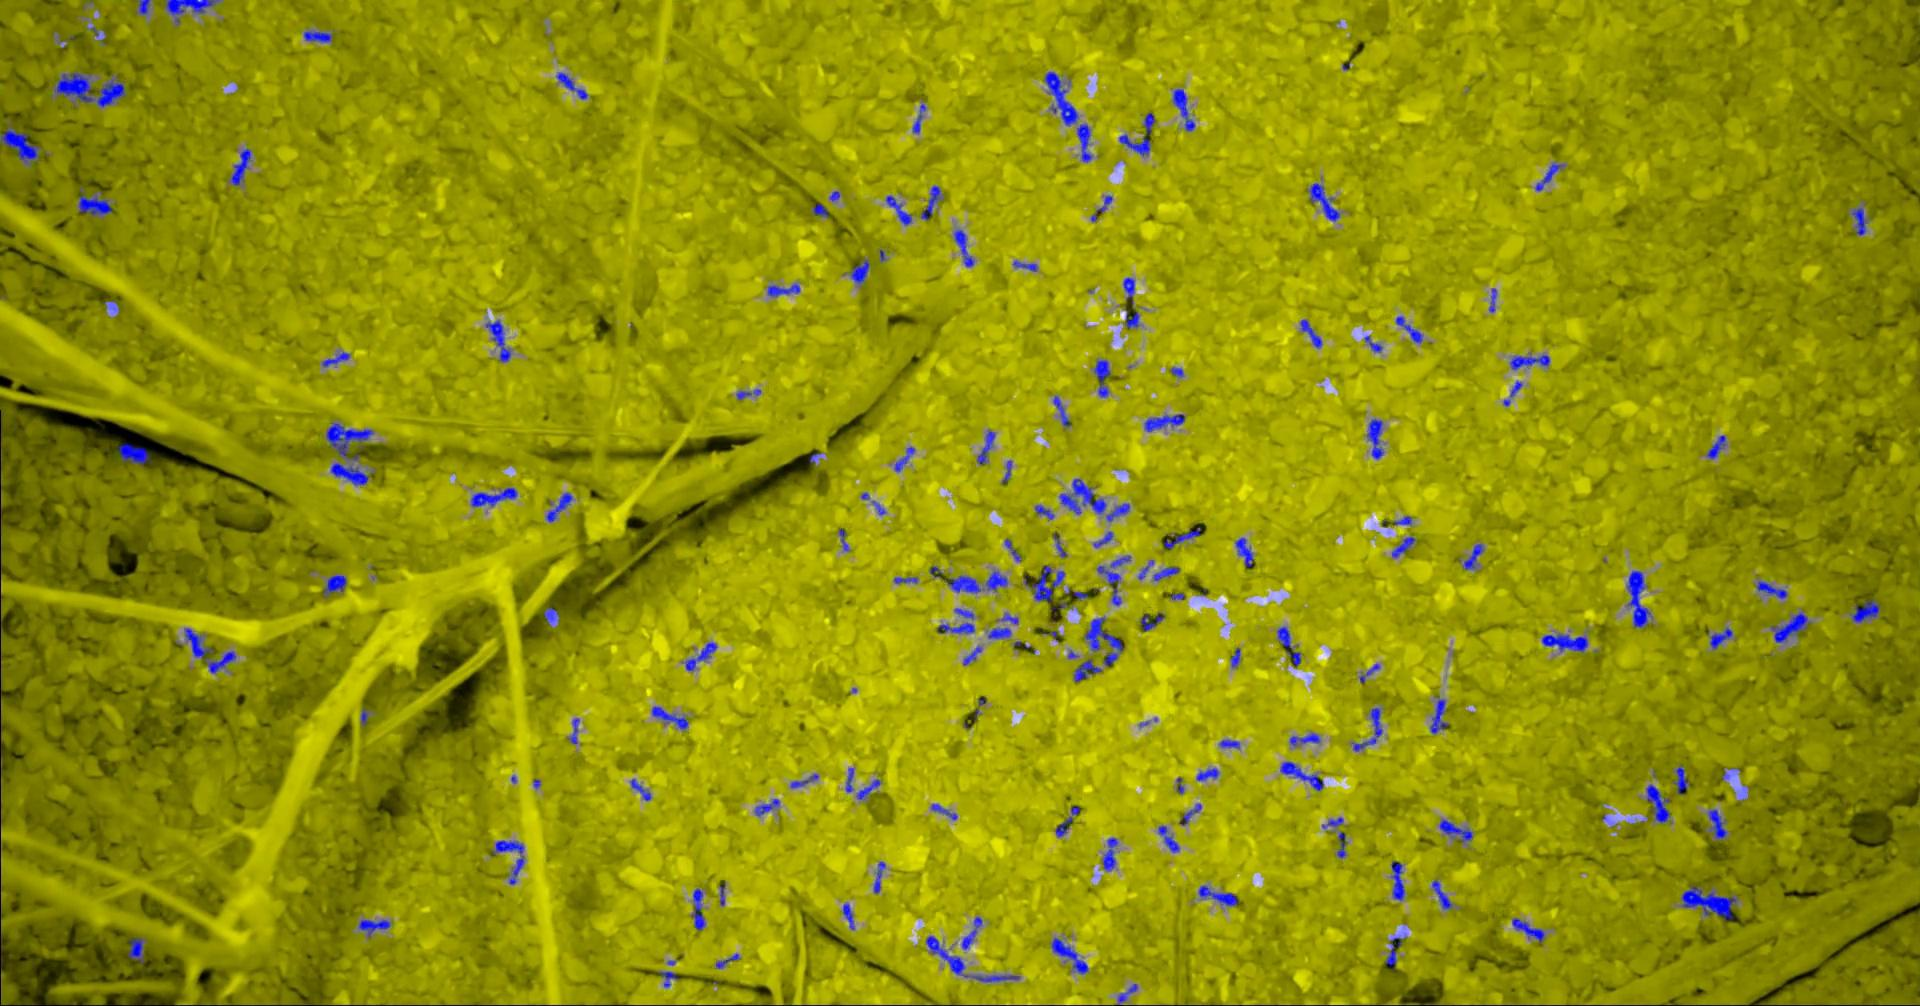ant: (927, 935, 1021, 981), (185, 627, 237, 673), (1086, 617, 1125, 666), (1683, 885, 1737, 920), (328, 422, 375, 460), (1060, 478, 1109, 514), (1046, 71, 1079, 124), (1098, 555, 1131, 605), (1120, 112, 1157, 155), (1, 126, 41, 164), (1025, 565, 1065, 602), (493, 840, 526, 884), (1628, 570, 1652, 627), (1352, 708, 1384, 751), (1053, 937, 1090, 973), (1281, 761, 1324, 790), (168, 0, 222, 22), (1310, 182, 1341, 220), (1771, 612, 1811, 641), (488, 319, 512, 361), (1175, 88, 1197, 130), (80, 187, 114, 215), (1279, 626, 1302, 666), (1648, 784, 1671, 823), (331, 462, 370, 485), (472, 486, 518, 506), (1543, 633, 1589, 652), (687, 641, 717, 669), (557, 72, 589, 99), (653, 706, 690, 729), (1512, 917, 1545, 942), (1164, 527, 1203, 549), (1537, 163, 1566, 191), (955, 229, 977, 265), (547, 492, 574, 521), (119, 442, 152, 465), (1441, 819, 1474, 842), (1200, 885, 1239, 904), (888, 196, 913, 225), (1057, 805, 1081, 836), (232, 147, 251, 185), (1368, 418, 1385, 459), (963, 916, 984, 949), (1397, 316, 1423, 343), (1431, 696, 1450, 733), (1095, 359, 1112, 398), (922, 185, 942, 218), (1145, 414, 1186, 431), (1432, 879, 1454, 909), (1387, 937, 1407, 969), (1853, 600, 1881, 622), (1302, 319, 1323, 347), (1076, 659, 1103, 681), (1078, 123, 1093, 163), (1511, 354, 1550, 370), (978, 431, 996, 464), (359, 920, 392, 937), (693, 888, 707, 930), (1392, 860, 1406, 901), (1709, 809, 1728, 838), (1710, 626, 1735, 649), (949, 575, 982, 592), (1054, 395, 1072, 426), (1464, 542, 1484, 569), (1757, 580, 1788, 598), (1161, 826, 1181, 852), (1393, 536, 1417, 558), (1237, 537, 1255, 567), (1092, 196, 1112, 221), (1505, 380, 1524, 406), (1103, 837, 1119, 870), (1181, 803, 1203, 826), (851, 259, 871, 283), (858, 779, 883, 799), (897, 446, 916, 471), (1675, 765, 1691, 794), (1117, 983, 1139, 1005), (987, 570, 1010, 591), (1708, 434, 1727, 459), (756, 798, 781, 815), (632, 779, 653, 800), (325, 575, 348, 594), (1142, 612, 1164, 631), (1853, 207, 1868, 235), (323, 351, 350, 366), (933, 803, 959, 819), (1109, 503, 1131, 521), (770, 283, 801, 296), (874, 861, 886, 893), (792, 774, 820, 788), (914, 103, 927, 133), (938, 622, 977, 633), (1361, 663, 1382, 682), (130, 937, 145, 963), (1291, 733, 1321, 746), (717, 953, 742, 968), (1006, 539, 1022, 560), (1124, 277, 1137, 305), (1156, 567, 1181, 580), (660, 970, 681, 987), (305, 30, 334, 42), (965, 647, 983, 664), (1365, 335, 1384, 352), (1095, 531, 1114, 547), (1036, 504, 1055, 520), (570, 718, 582, 743), (1197, 767, 1220, 780), (844, 903, 856, 929), (738, 387, 762, 399), (545, 606, 561, 622), (1338, 831, 1349, 857), (1323, 817, 1345, 828), (1015, 260, 1039, 271), (1003, 460, 1013, 483), (989, 627, 1012, 638), (1128, 310, 1140, 328), (1490, 288, 1498, 312), (814, 203, 830, 216), (956, 608, 975, 619), (1232, 647, 1242, 666), (847, 767, 855, 793), (895, 575, 919, 583), (1222, 739, 1241, 748), (140, 0, 151, 14), (1396, 516, 1413, 525)
